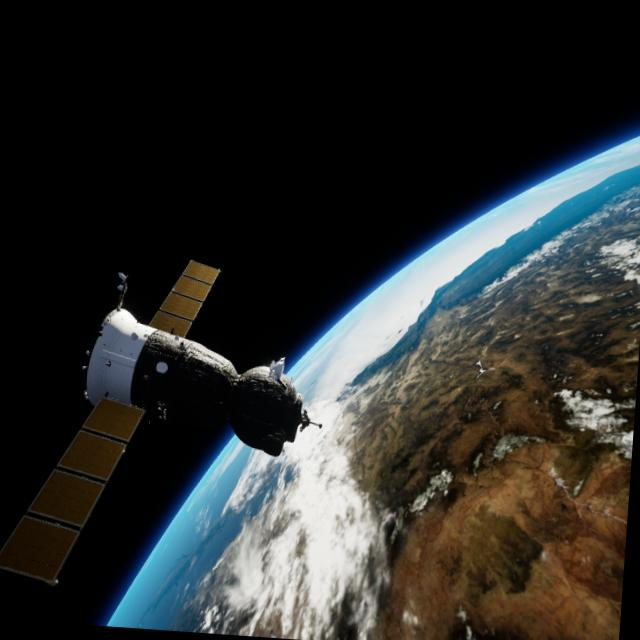Satellites revolving around earth: (103, 90, 640, 640), (0, 242, 322, 611)
